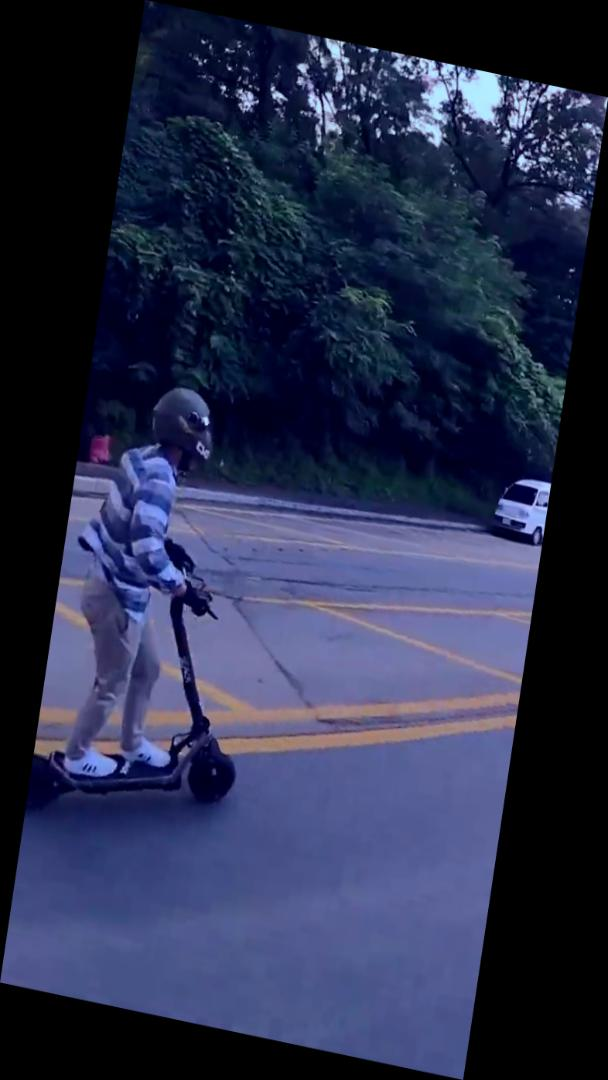helmet: (25, 369, 292, 858)
